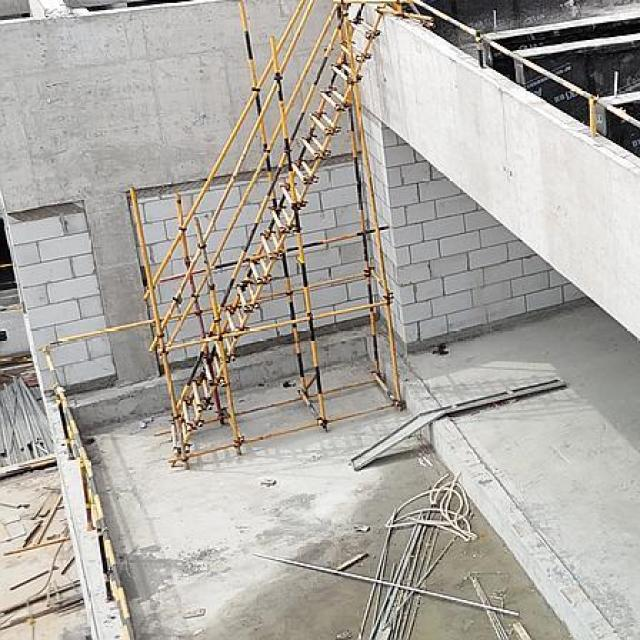edge_guardrail: (404, 0, 639, 141), (39, 341, 140, 640), (0, 264, 17, 286)
